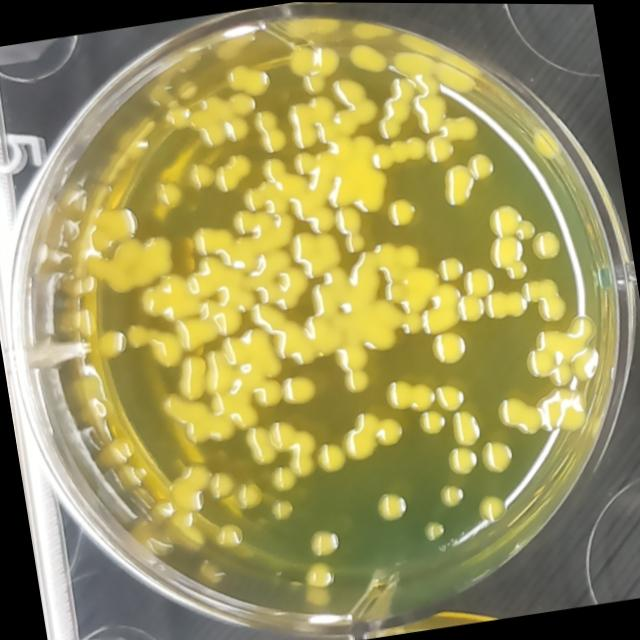other: (81, 231, 182, 298), (132, 269, 197, 329), (371, 73, 422, 142), (286, 39, 346, 97), (164, 459, 216, 521), (288, 228, 345, 281), (338, 407, 387, 466), (494, 390, 544, 441), (89, 202, 142, 249), (367, 133, 428, 171), (438, 159, 478, 215), (172, 351, 212, 407), (424, 326, 472, 370), (426, 326, 472, 370), (280, 101, 320, 151), (368, 485, 414, 528), (211, 152, 258, 194), (222, 59, 271, 99), (248, 295, 293, 337), (411, 91, 453, 136), (478, 435, 518, 481), (476, 435, 518, 478), (448, 404, 486, 449), (191, 220, 237, 257), (483, 199, 524, 240), (525, 225, 566, 266), (278, 370, 322, 408), (329, 71, 370, 110), (312, 436, 348, 480), (457, 263, 497, 302), (302, 526, 343, 563), (380, 194, 421, 231), (472, 489, 510, 527), (431, 378, 470, 415), (93, 328, 132, 365), (344, 92, 382, 129), (202, 468, 239, 505), (209, 517, 247, 553), (422, 130, 458, 167), (250, 375, 286, 412), (443, 111, 481, 146), (443, 443, 479, 479), (371, 414, 407, 450), (455, 289, 488, 328), (122, 317, 154, 357), (462, 147, 498, 182), (330, 200, 364, 236), (220, 112, 254, 148), (522, 345, 556, 381), (253, 124, 290, 157), (432, 252, 468, 285), (256, 152, 292, 185), (300, 559, 336, 592), (534, 293, 570, 326), (223, 86, 260, 117), (436, 477, 469, 511), (338, 367, 374, 398), (184, 160, 216, 192), (288, 148, 321, 179), (230, 204, 259, 238), (238, 183, 268, 215), (268, 464, 298, 496), (416, 516, 448, 545), (266, 496, 298, 525), (250, 105, 280, 134), (341, 229, 368, 259)
